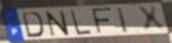D: (21, 11, 45, 39)
F: (90, 7, 114, 35)
I: (116, 7, 130, 34)
L: (70, 9, 93, 36)
N: (45, 10, 71, 37)
X: (136, 5, 167, 33)
